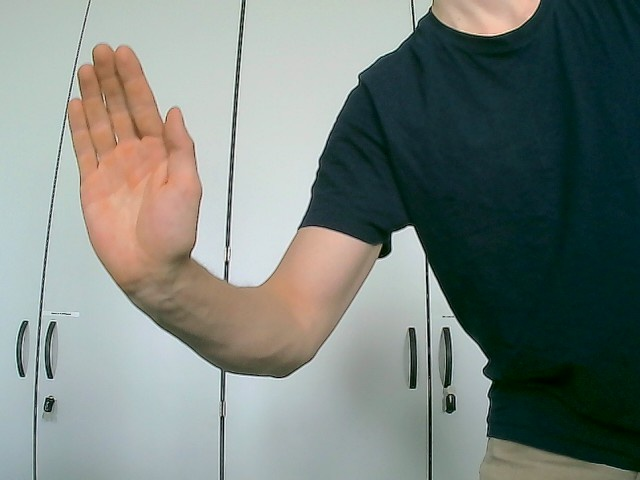stop: (66, 42, 204, 287)
